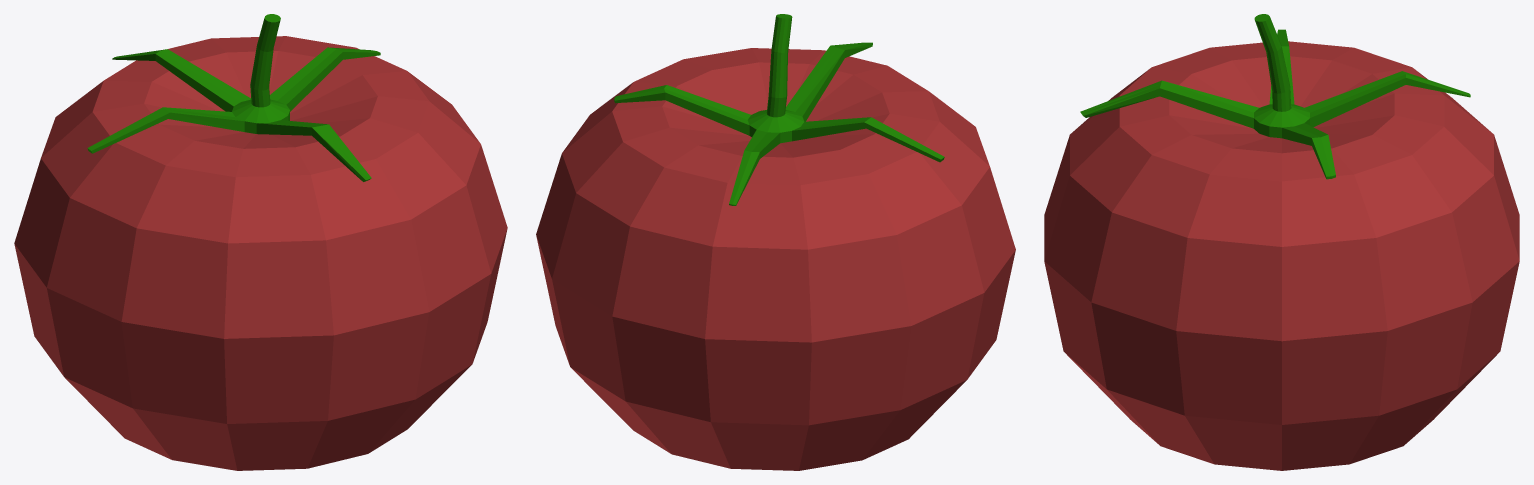
The model's file is tomato.glb.
The picture shows the model from 3 angles, left to right: view 1: azimuth 30°, elevation 25°; view 2: azimuth 150°, elevation 25°; view 3: azimuth 270°, elevation 25°; orthographic projection. The views are drawn at different scales.
Visible parts, largest first — view 1: Sphere, Sphere_1; view 2: Sphere, Sphere_1; view 3: Sphere, Sphere_1.
Part boxes in pixels (x1,y1,x2,y2): Sphere: (14, 36, 507, 470); Sphere_1: (87, 14, 380, 181); Sphere: (536, 48, 1015, 470); Sphere_1: (614, 14, 944, 205); Sphere: (1044, 41, 1519, 470); Sphere_1: (1080, 14, 1470, 179).
Bounding box in the file's own units: 310 × 297 × 302.
